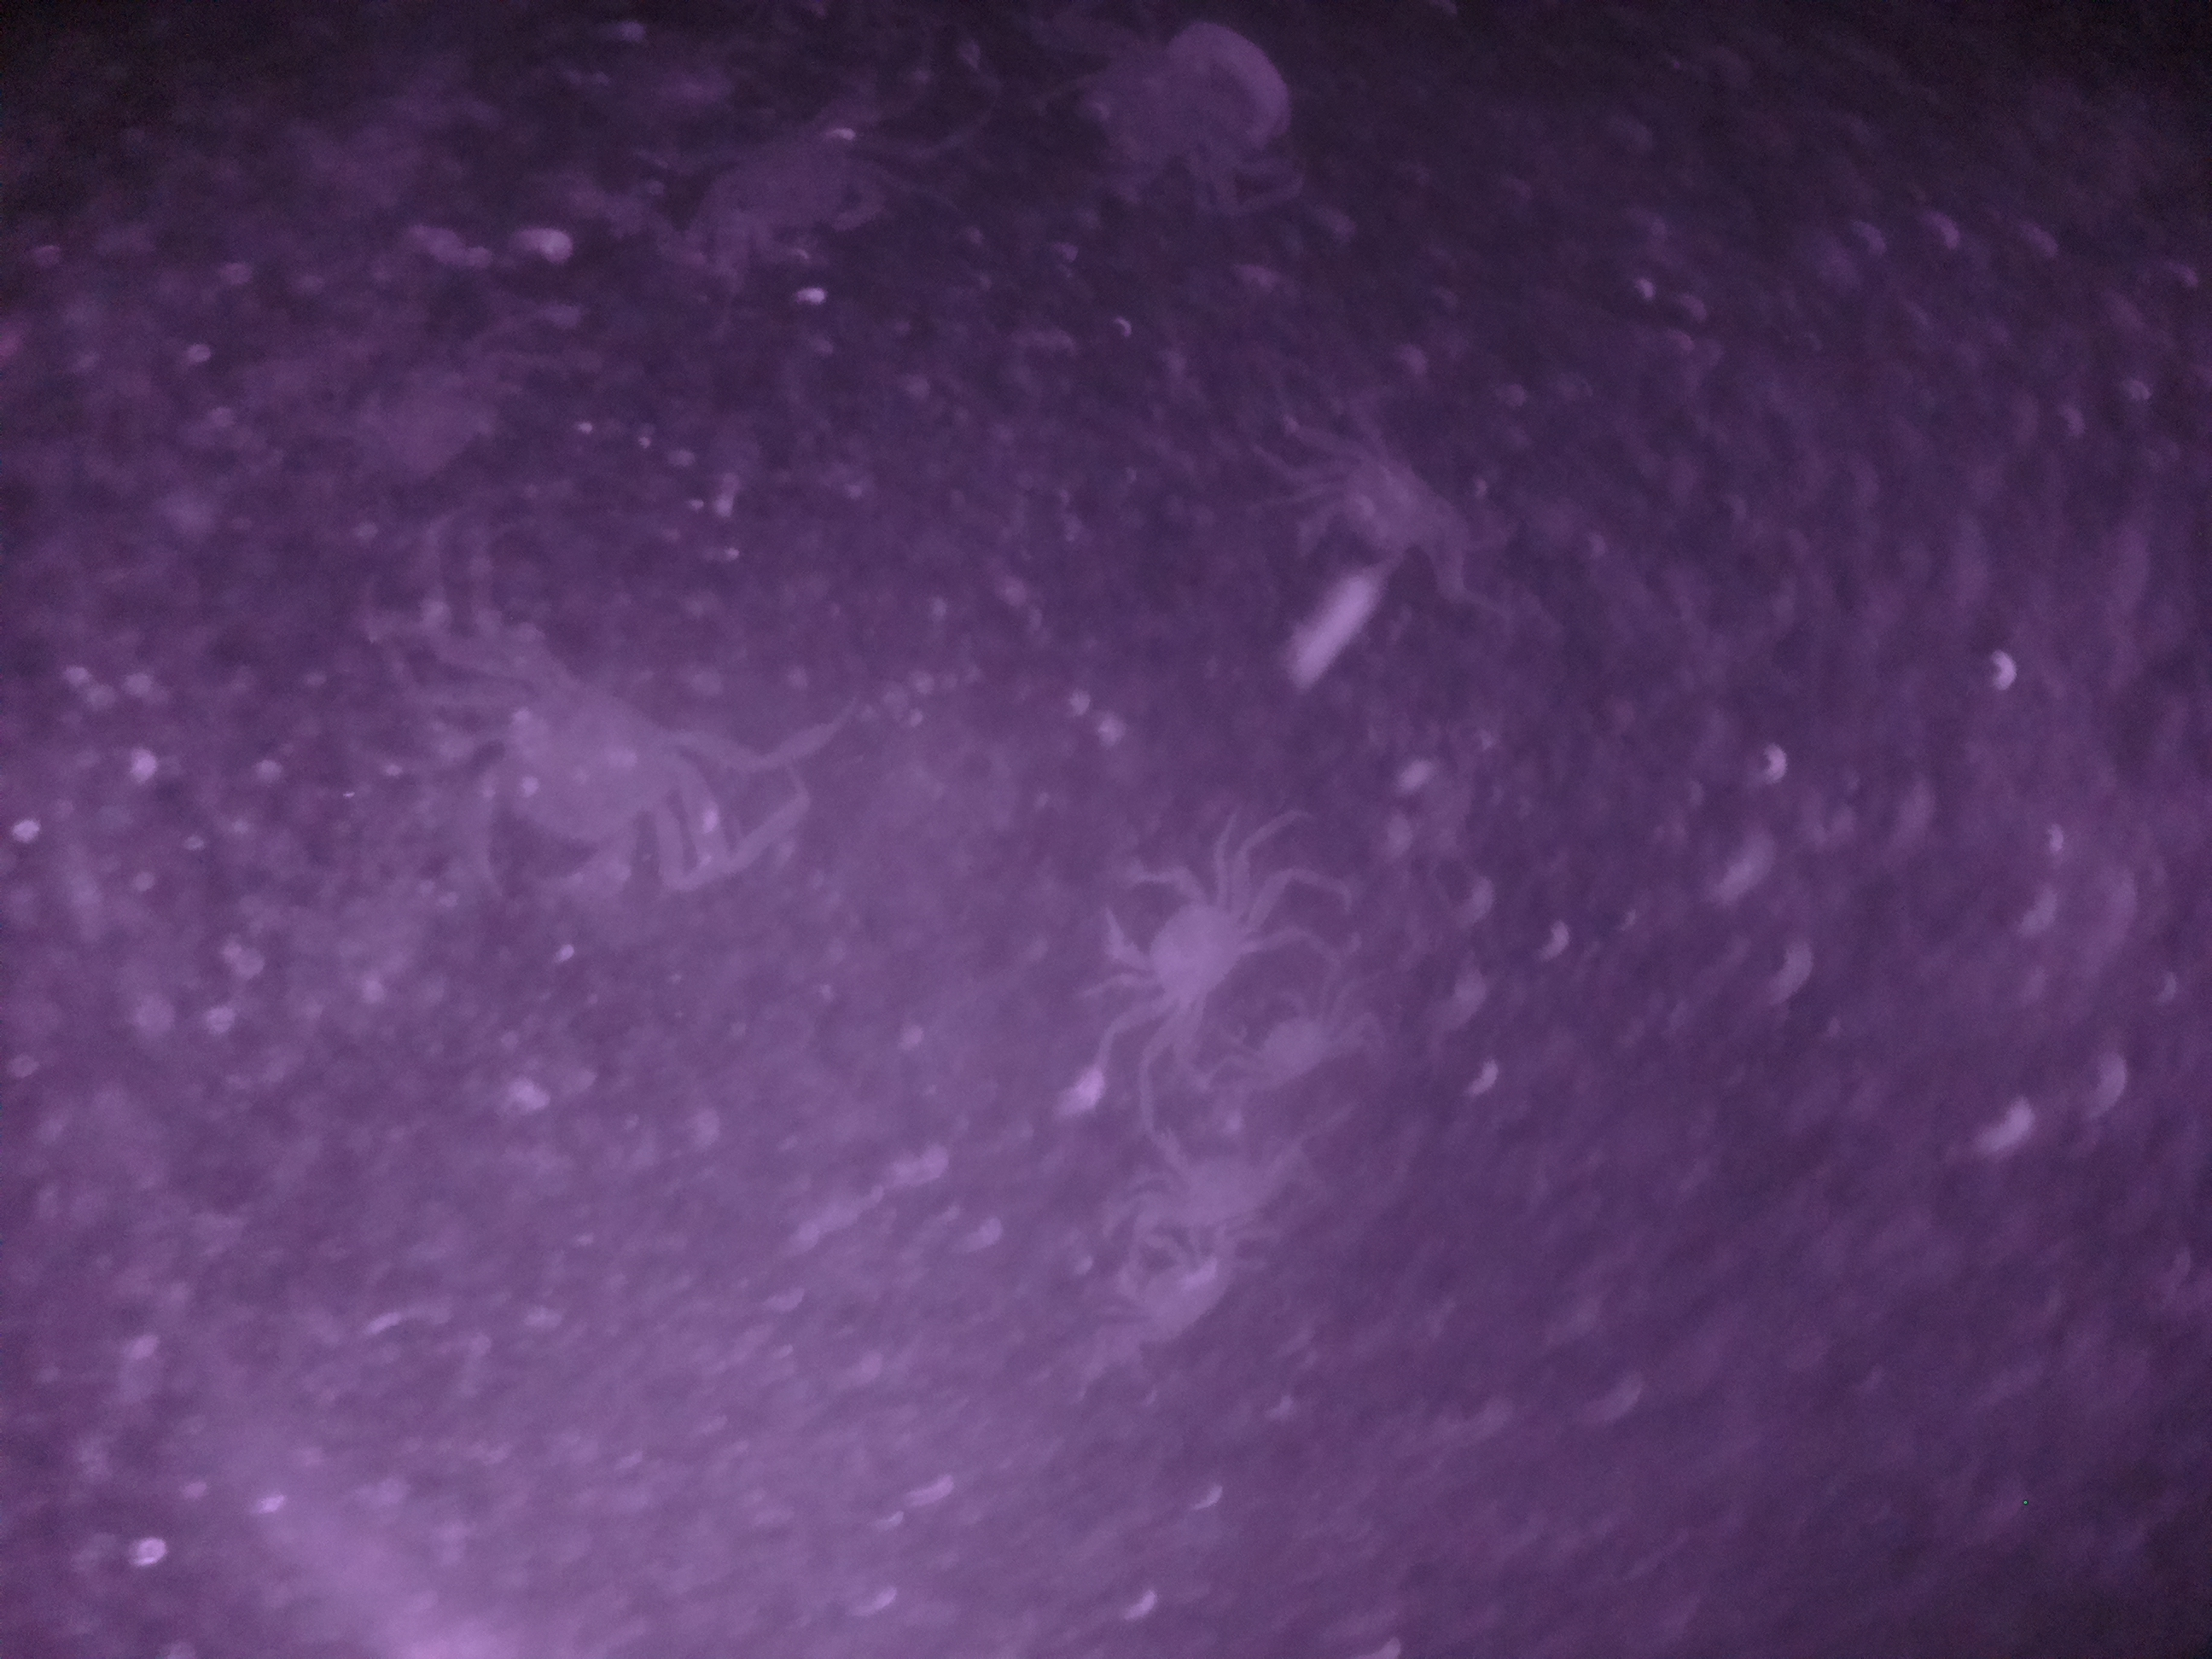Crab: (1087, 833, 1278, 1049)
